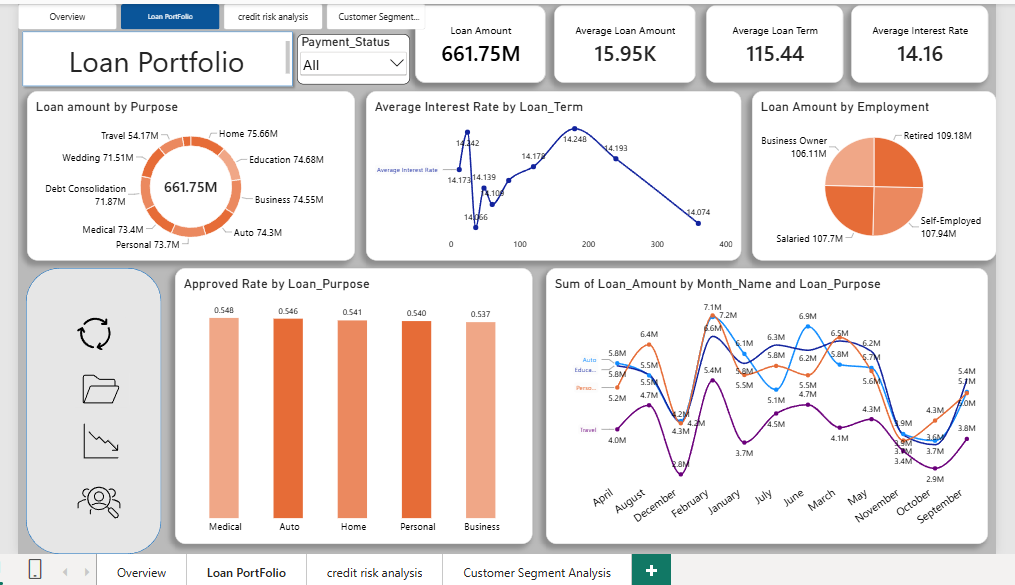

The dashboard page shown, as its layout file describes it:
{"tool":"powerbi","page":{"name":"Loan PortFolio","canvas":[1920,1080],"ordinal":1},"visuals":[{"type":"cardVisual","fields":{"Data":["Fact_Loans.Loan Amount"]},"box":[779.8,2.2,257,153.4],"z":0},{"type":"shape","box":[15.1,518.4,265.7,561.6],"z":0,"group":"g2"},{"type":"cardVisual","fields":{"Data":["Fact_Loans.Average Loan Amount"]},"box":[1051.9,2.2,278.6,153.4],"z":1000},{"type":"actionButton","box":[88.3,614.7,123.1,64.8],"z":1000,"group":"g2"},{"type":"cardVisual","fields":{"Data":["Fact_Loans.Average Loan Term"]},"box":[1350,2.2,270,153.4],"z":2000},{"type":"actionButton","box":[106.7,720.2,110.5,70.8],"z":2000,"group":"g2"},{"type":"cardVisual","fields":{"Data":["Fact_Loans.Average Interest Rate"]},"box":[1635.1,2.2,270,153.4],"z":3000},{"type":"actionButton","box":[106.7,822.7,110.5,70.8],"z":3000,"group":"g2"},{"type":"donutChart","title":"Loan amount by Purpose","fields":{"Category":["Fact_Loans.Loan_Purpose"],"Y":["Sum(Fact_Loans.Loan_Amount)"]},"box":[17.3,170.6,643.7,332.6],"z":4000},{"type":"actionButton","box":[102.5,943.4,110.5,70.8],"z":4000,"group":"g2"},{"type":"lineChart","fields":{"Category":["Fact_Loans.Loan_Term"],"Y":["Fact_Loans.Average Interest Rate"]},"box":[682.6,170.6,736.6,332.6],"z":5000},{"type":"pieChart","title":"Loan Amount by Employment","fields":{"Category":["Fact_Loans.Employment"],"Y":["Sum(Fact_Loans.Loan_Amount)"]},"box":[1440.7,170.6,479.5,332.6],"z":6000},{"type":"clusteredColumnChart","fields":{"Category":["Fact_Loans.Loan_Purpose"],"Y":["Fact_Loans.Approved Rate"]},"box":[308.9,518.4,702,542.2],"z":7000},{"type":"lineChart","fields":{"Category":["Dim_Date.Month_Name"],"Series":["Fact_Loans.Loan_Purpose"],"Y":["Sum(Fact_Loans.Loan_Amount)"]},"box":[1036.8,518.4,868.3,542.2],"z":8000},{"type":"shape","box":[0,45.4,548.6,125.3],"z":9000,"group":"g1"},{"type":"slicer","fields":{"Values":["Fact_Loans.Payment_Status"]},"box":[548.6,58.3,222.5,99.4],"z":9000},{"type":"group","id":"g1","title":"Group 1","box":[0,45.4,548.6,125.3],"z":10000},{"type":"textbox","box":[18.8,72.1,513.7,69.5],"z":10000,"group":"g1"},{"type":"pageNavigator","box":[0,0,800,50],"z":11000},{"type":"group","id":"g2","title":"Group 2","box":[15.1,518.4,265.7,561.6],"z":11001}]}

Visuals, with their boxes on the page's 1920x1080 design canvas (x1, y1, x2, y2). These are canvas units, not pixel positions in the 1015x585 screenshot, which may show the page scaled, cropped or inside an application window:
cardVisual - Fact_Loans.Loan Amount: <bbox>780, 2, 1037, 156</bbox>
shape: <bbox>15, 518, 281, 1080</bbox>
cardVisual - Fact_Loans.Average Loan Amount: <bbox>1052, 2, 1330, 156</bbox>
actionButton: <bbox>88, 615, 211, 680</bbox>
cardVisual - Fact_Loans.Average Loan Term: <bbox>1350, 2, 1620, 156</bbox>
actionButton: <bbox>107, 720, 217, 791</bbox>
cardVisual - Fact_Loans.Average Interest Rate: <bbox>1635, 2, 1905, 156</bbox>
actionButton: <bbox>107, 823, 217, 894</bbox>
"Loan amount by Purpose" donutChart: <bbox>17, 171, 661, 503</bbox>
actionButton: <bbox>102, 943, 213, 1014</bbox>
lineChart - Fact_Loans.Loan_Term x Fact_Loans.Average Interest Rate: <bbox>683, 171, 1419, 503</bbox>
"Loan Amount by Employment" pieChart: <bbox>1441, 171, 1920, 503</bbox>
clusteredColumnChart - Fact_Loans.Loan_Purpose x Fact_Loans.Approved Rate: <bbox>309, 518, 1011, 1061</bbox>
lineChart - Dim_Date.Month_Name x Fact_Loans.Loan_Purpose: <bbox>1037, 518, 1905, 1061</bbox>
shape: <bbox>0, 45, 549, 171</bbox>
slicer - Fact_Loans.Payment_Status: <bbox>549, 58, 771, 158</bbox>
"Group 1" group: <bbox>0, 45, 549, 171</bbox>
textbox: <bbox>19, 72, 532, 142</bbox>
pageNavigator: <bbox>0, 0, 800, 50</bbox>
"Group 2" group: <bbox>15, 518, 281, 1080</bbox>
